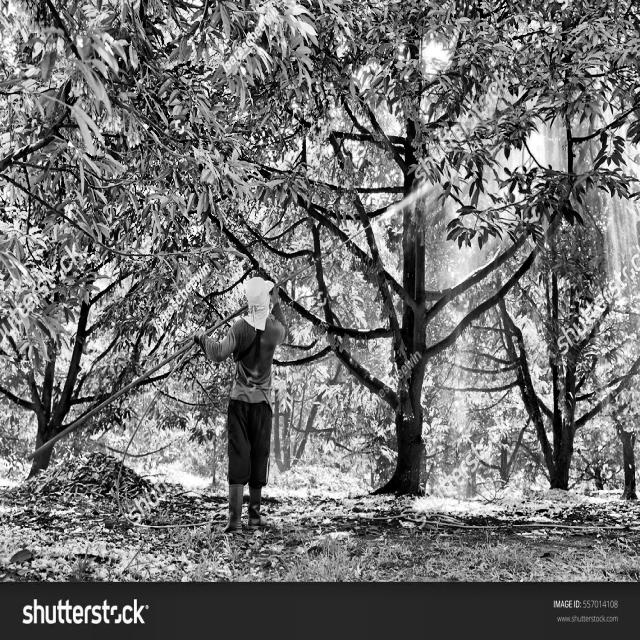arvore: (370, 0, 439, 506), (529, 255, 588, 508), (603, 346, 640, 521)
